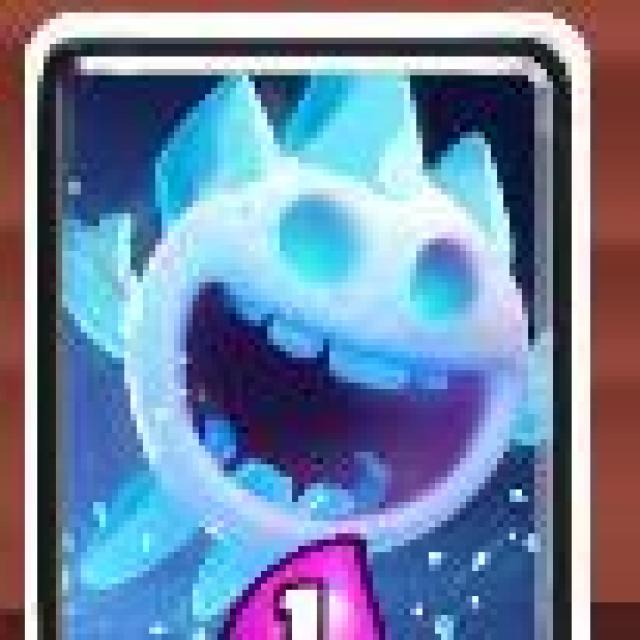Ice_Spirit: (29, 19, 588, 640)
